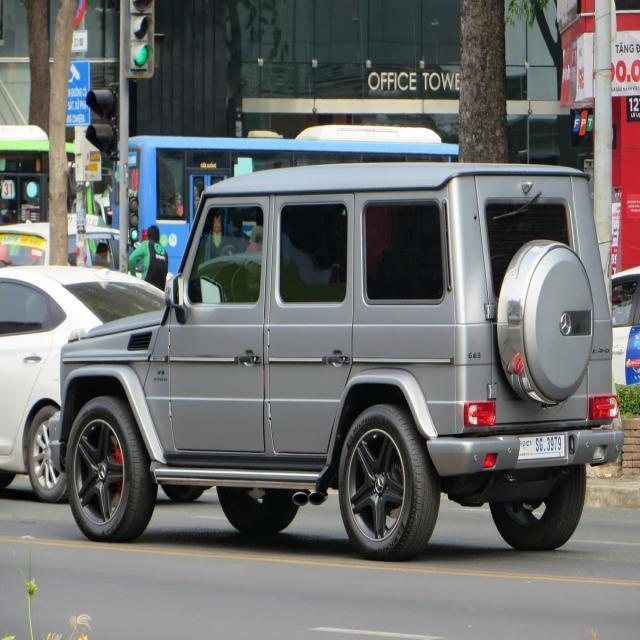Cambodia: (517, 439, 533, 452)
